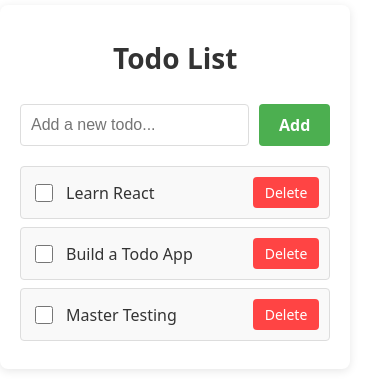
TodoList Component › Deleting Todos › can delete a completed todo
The width and height of the screenshot is (368, 389).
Click the checkbox named "mark \"learn react\"". click: [44, 193]
box: [35,184,53,202]
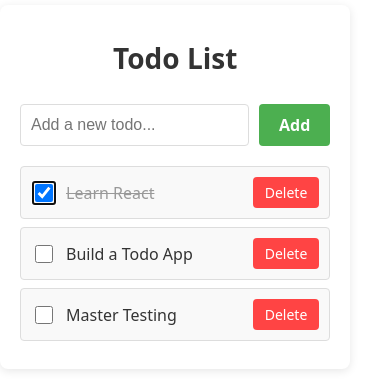
Click the button named "delete \"learn react\"". click: [286, 193]
box: [253,177,319,208]
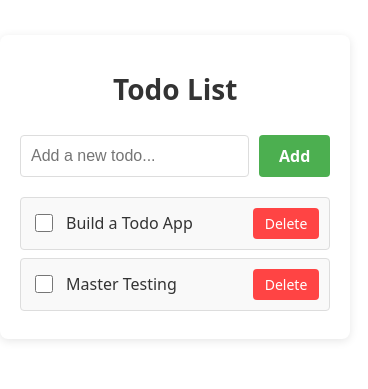
Expected: the text "Learn React" is gone
